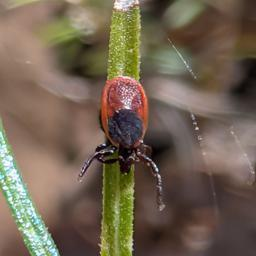Ixodes scapularis: (78, 77, 165, 210)
